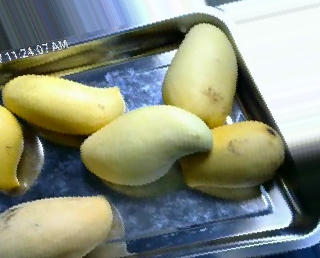Mango: (76, 100, 215, 186), (0, 69, 130, 137), (163, 19, 239, 126), (0, 192, 119, 257), (181, 120, 283, 194), (0, 103, 31, 188)
